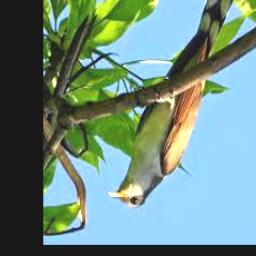Cuckoo: (107, 0, 239, 208)
